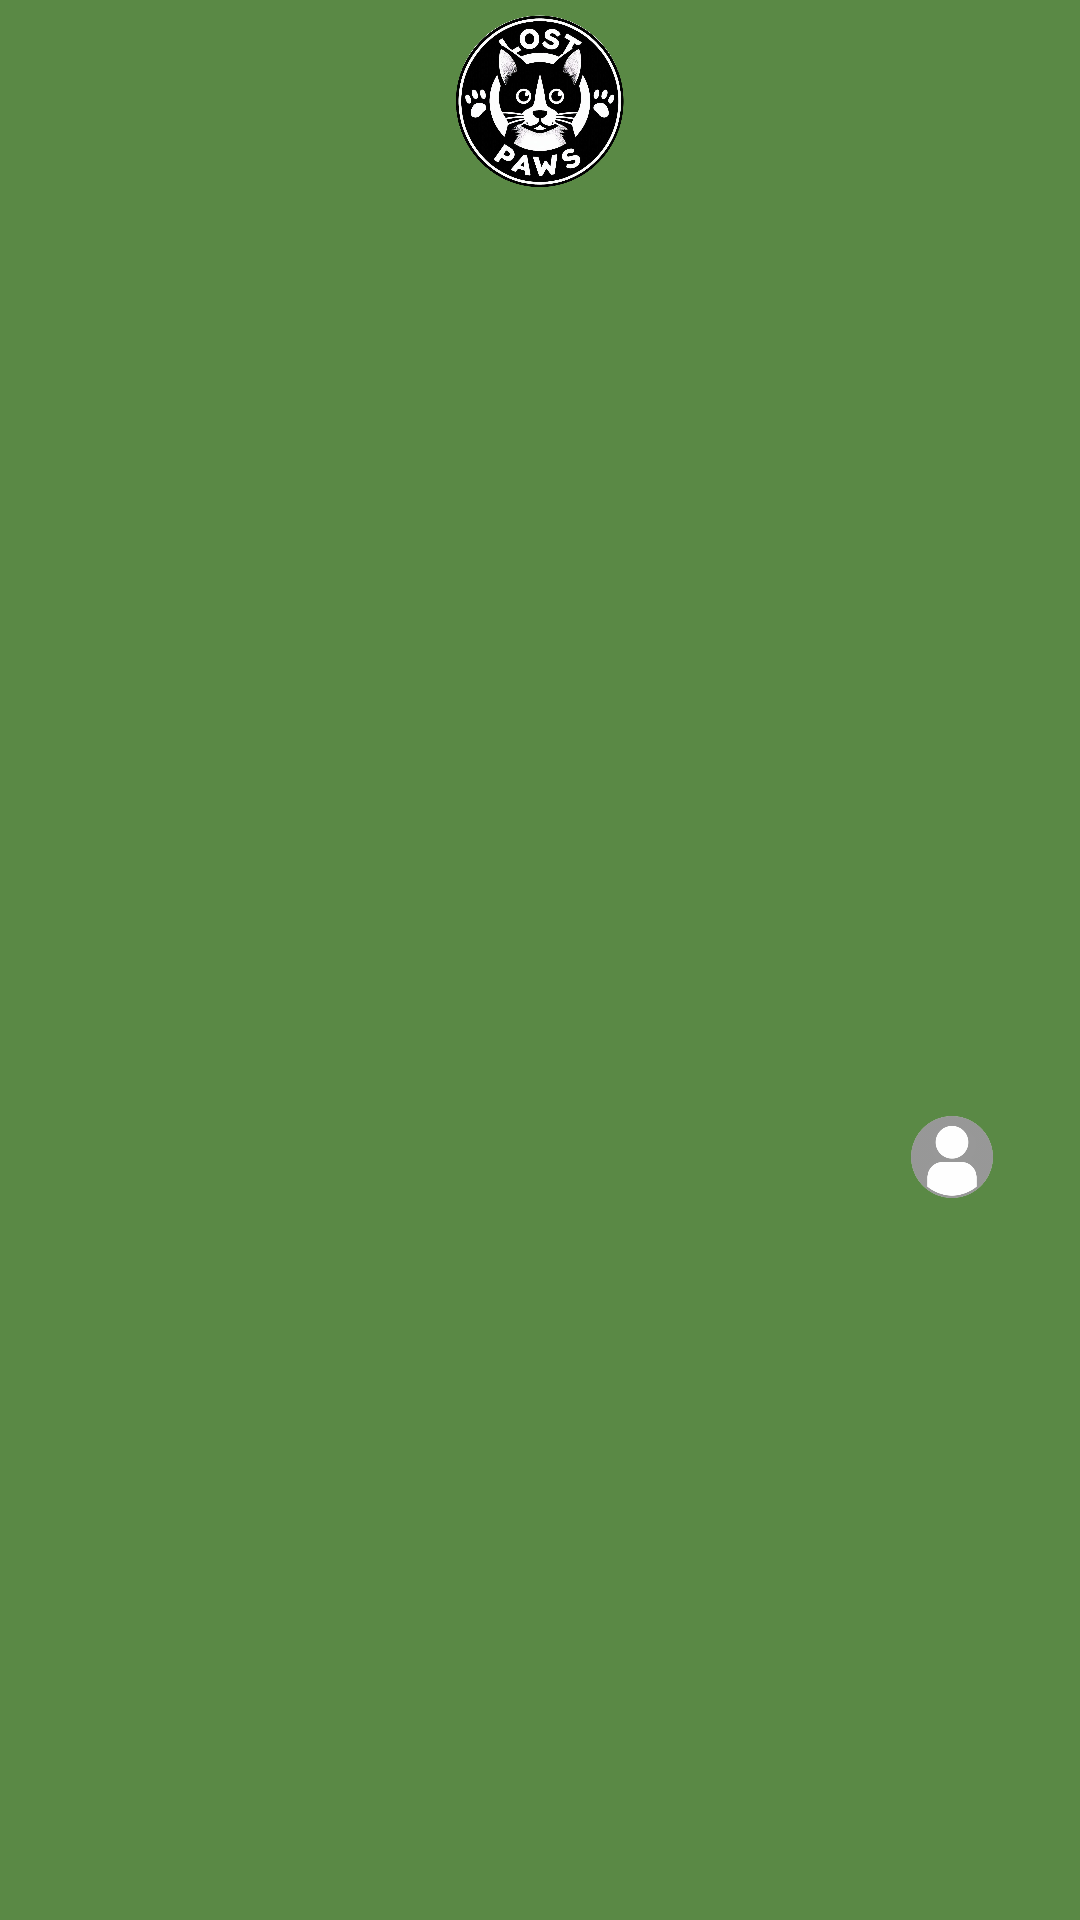

Named icons in this screenshot (1080 x 1920) and their bounding boxes, bbox=(x1, y1, x2, y2):
Usuario: bbox=(911, 1116, 993, 1198)
